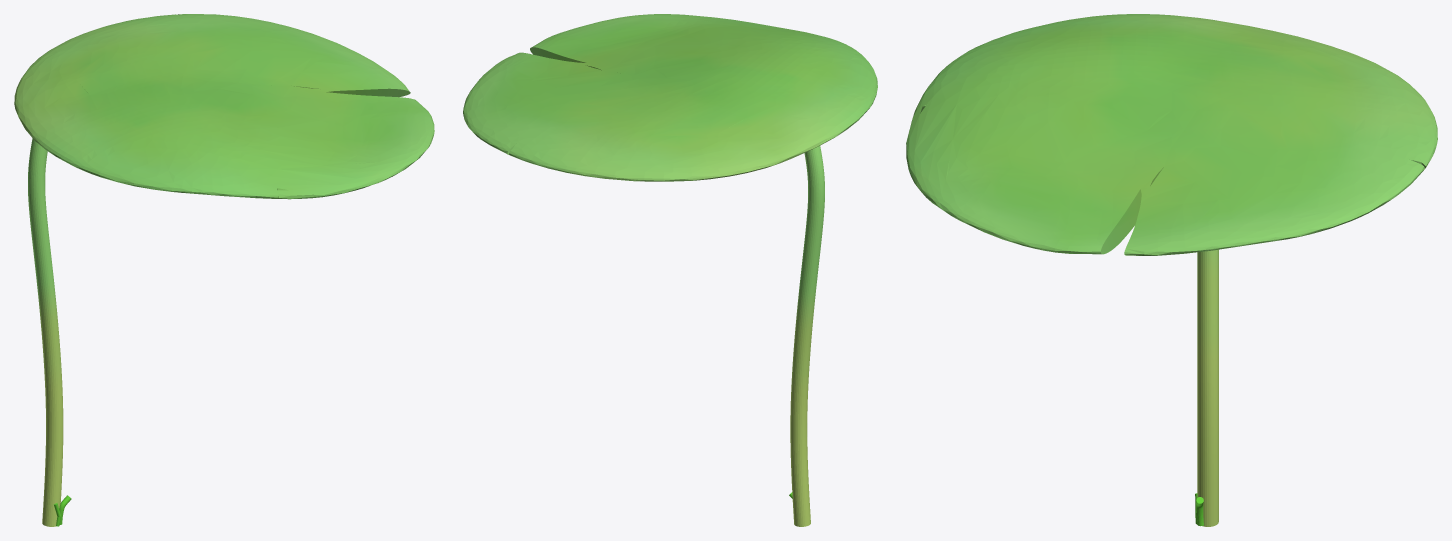
The model's file is largeLilypad.glb.
3 renders of one model, left to right at view 1: azimuth 30°, elevation 25°; view 2: azimuth 150°, elevation 25°; view 3: azimuth 270°, elevation 25°, orthographic. The views are drawn at different scales.
Parts seen in each view (by area): view 1: Quad Sphere, Tube; view 2: Quad Sphere, Tube; view 3: Quad Sphere, Tube.
Part boxes in pixels (left/top/right/bottom): Quad Sphere: left=14, top=14, right=434, bottom=199; Tube: left=28, top=138, right=63, bottom=526; Quad Sphere: left=463, top=14, right=877, bottom=181; Tube: left=790, top=146, right=824, bottom=526; Quad Sphere: left=906, top=14, right=1437, bottom=255; Tube: left=1197, top=249, right=1218, bottom=526.
Size of the model in its own units: 0.6918 by 0.7772 by 0.7267.
